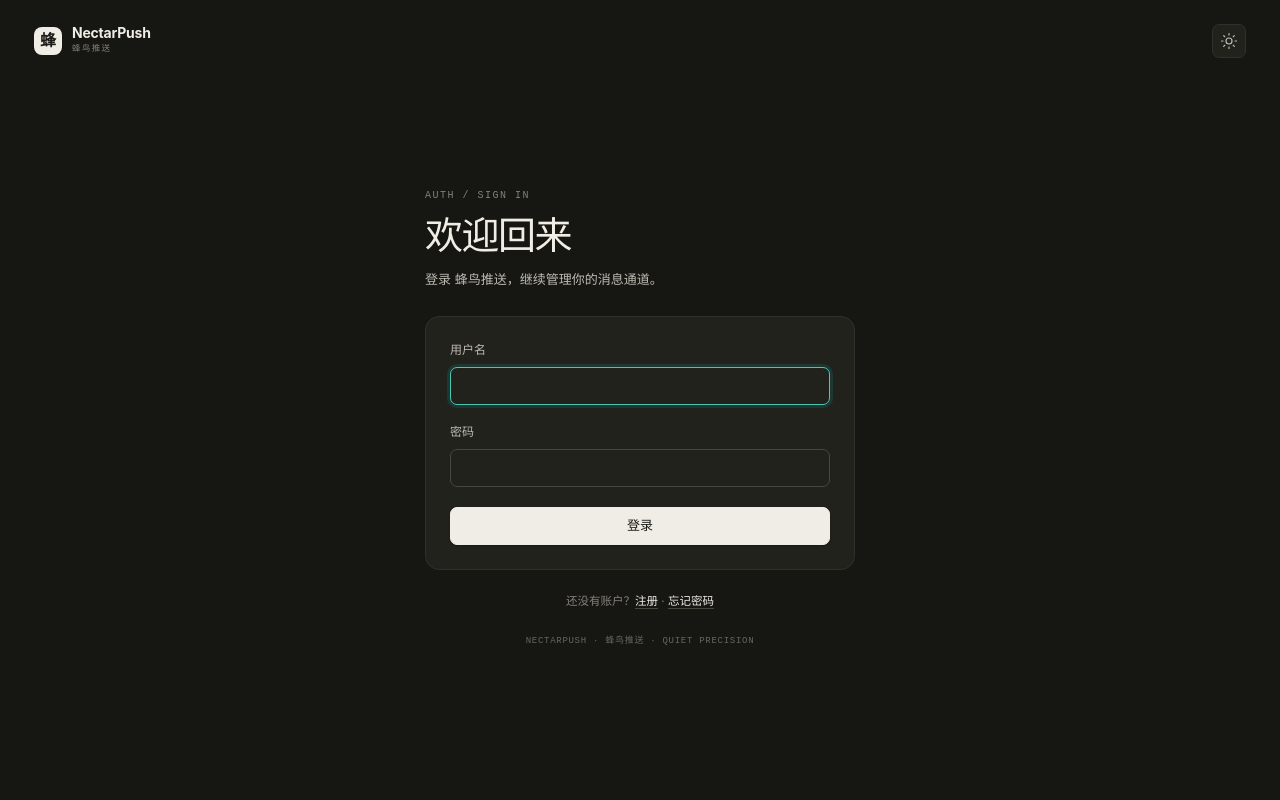
LoginPage › surfaces the backend error envelope message
Type "root" into the field labelled "用户名" at (640, 386), box [450,367,830,405]
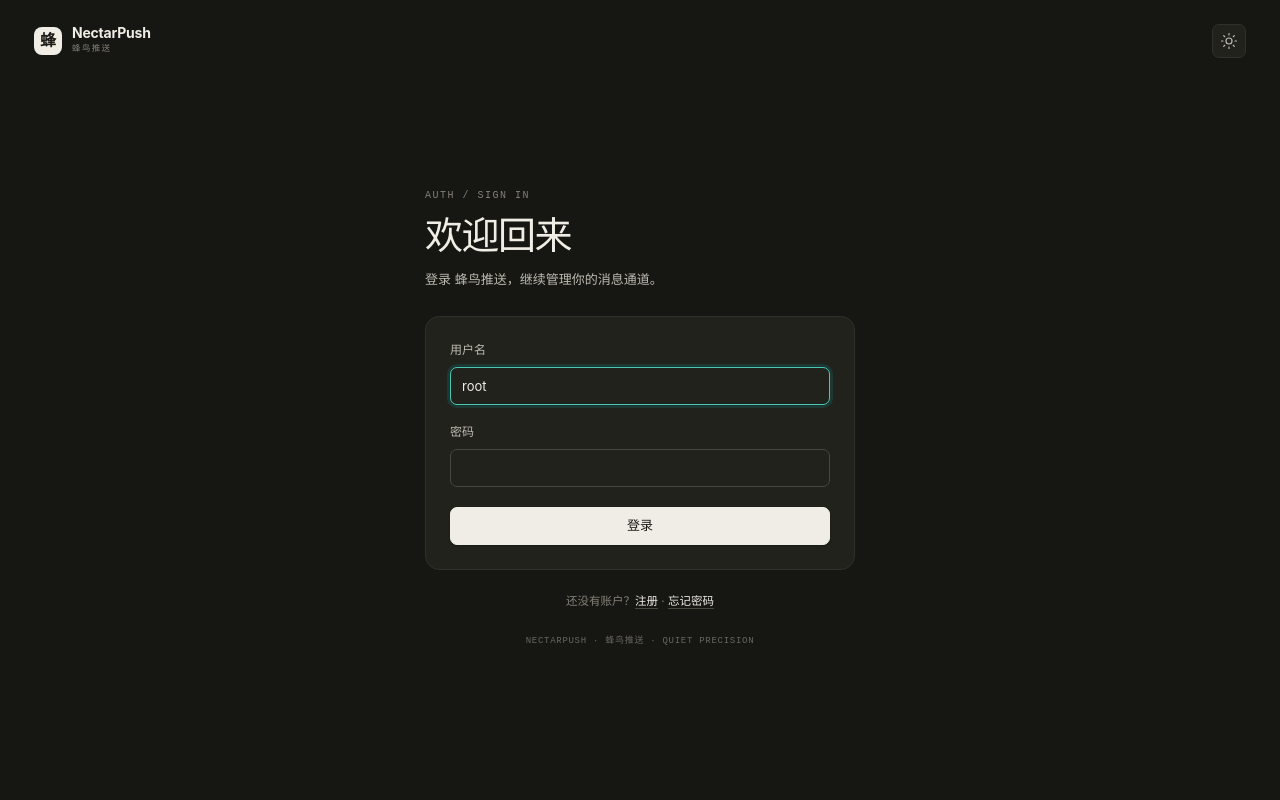
Type "123456" into the password field labelled "密码" at (640, 468), box [450,449,830,487]
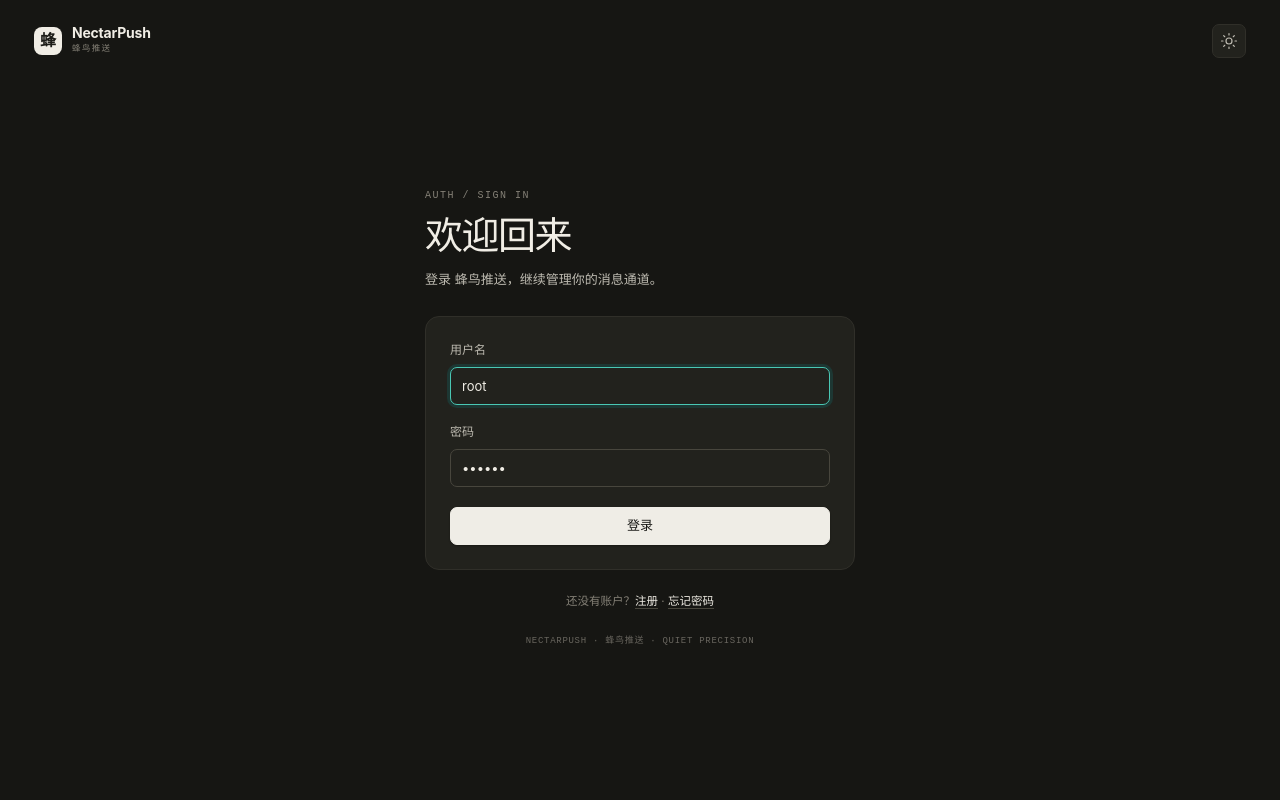
Click the button "登录" at (640, 526), box [450,507,830,545]
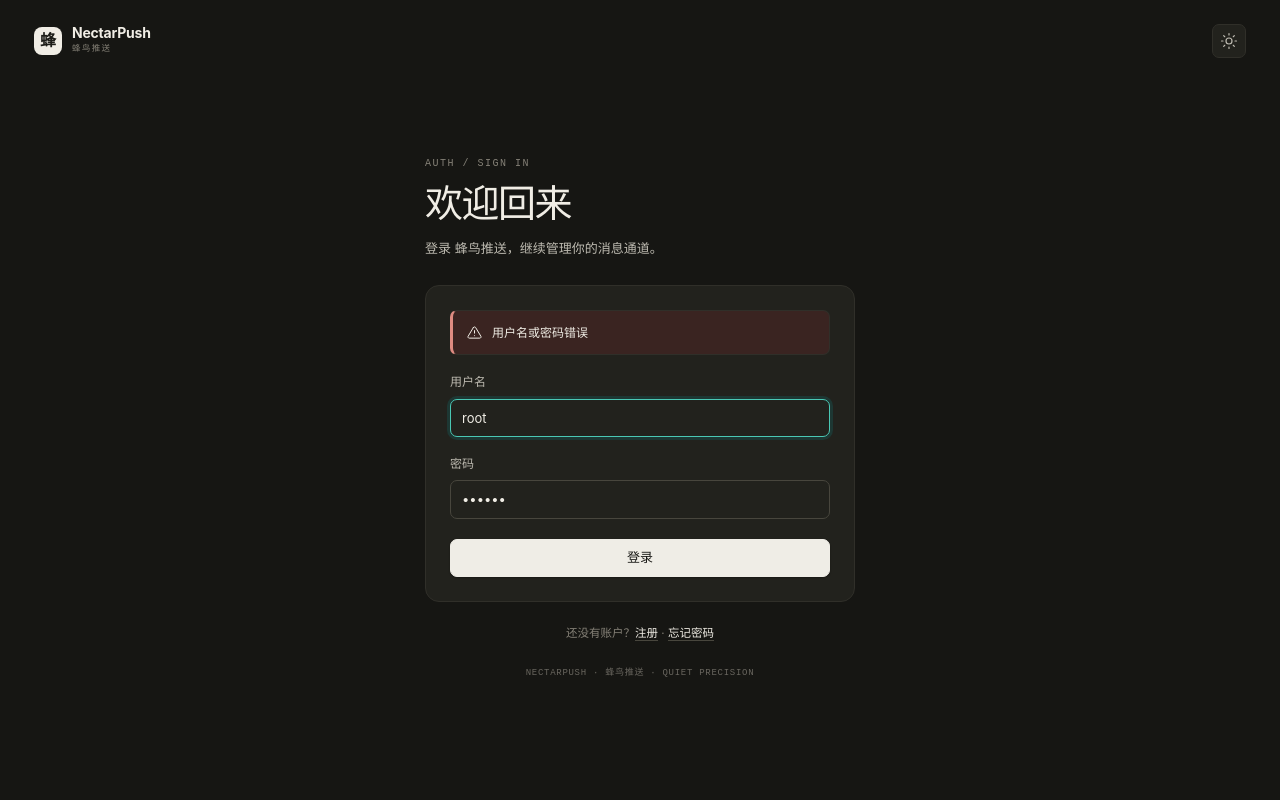
Check: the text "用户名或密码错误" is shown, box [492,325,588,340]
